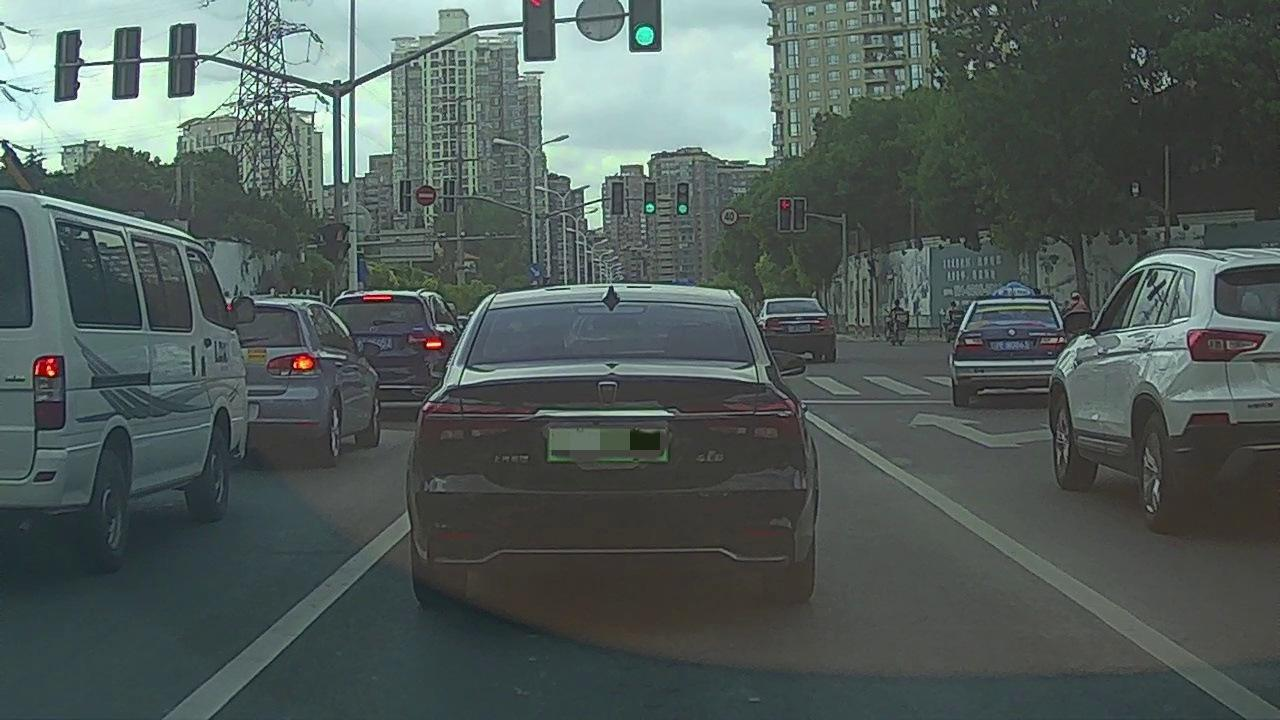traffic_light: (524, 1, 554, 62), (631, 1, 663, 53), (778, 199, 792, 232), (792, 199, 806, 232), (611, 182, 624, 215), (676, 183, 688, 215), (643, 183, 655, 213)
